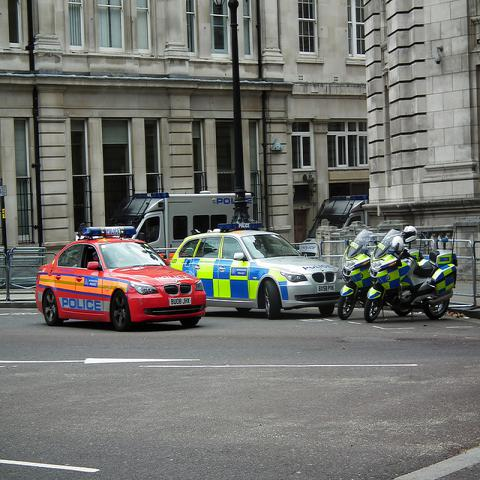car: (35, 238, 208, 333), (174, 224, 344, 313)
motorcycle: (365, 229, 458, 323), (336, 227, 372, 319)
truck: (120, 191, 236, 259)
